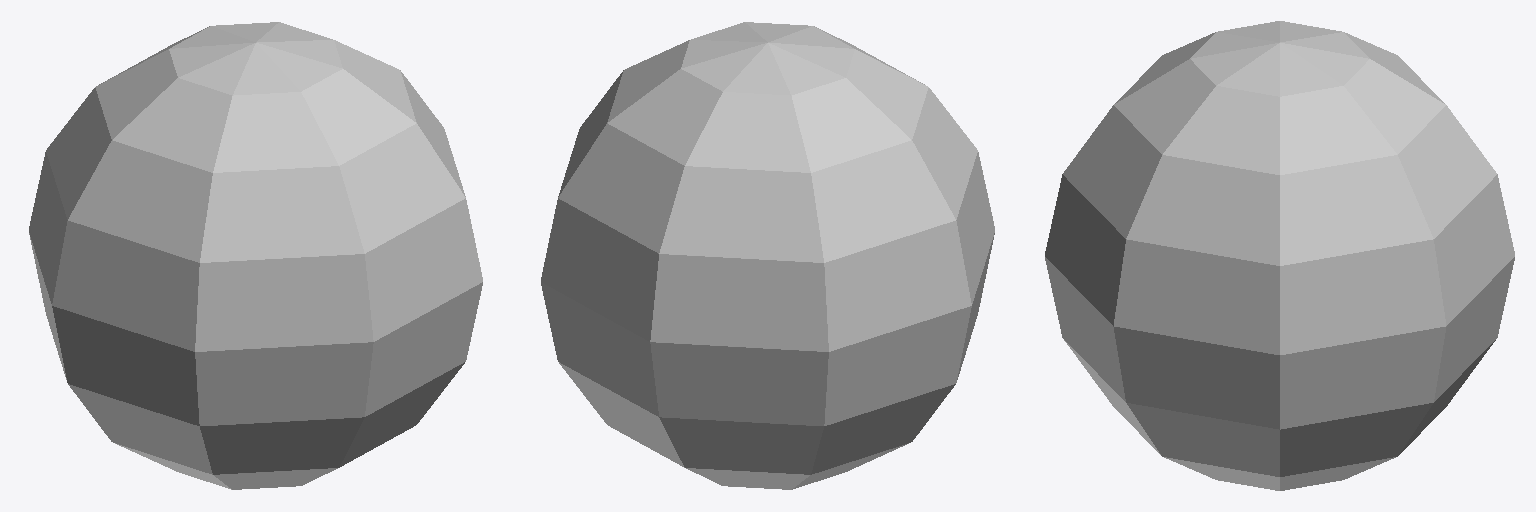
File: ball.obj
3 views of the same model, side by side, from view 1: azimuth 30°, elevation 25°; view 2: azimuth 150°, elevation 25°; view 3: azimuth 270°, elevation 25° (orthographic).
Parts seen in each view (by area): view 1: ForestCannonBall_Sphere; view 2: ForestCannonBall_Sphere; view 3: ForestCannonBall_Sphere.
Boxes of the visible parts, <box> form: ForestCannonBall_Sphere: <box>29,22,482,489</box>; ForestCannonBall_Sphere: <box>541,22,994,489</box>; ForestCannonBall_Sphere: <box>1045,21,1514,490</box>.
Bounding box in the file's own units: 0.9542 × 0.9542 × 0.9542.